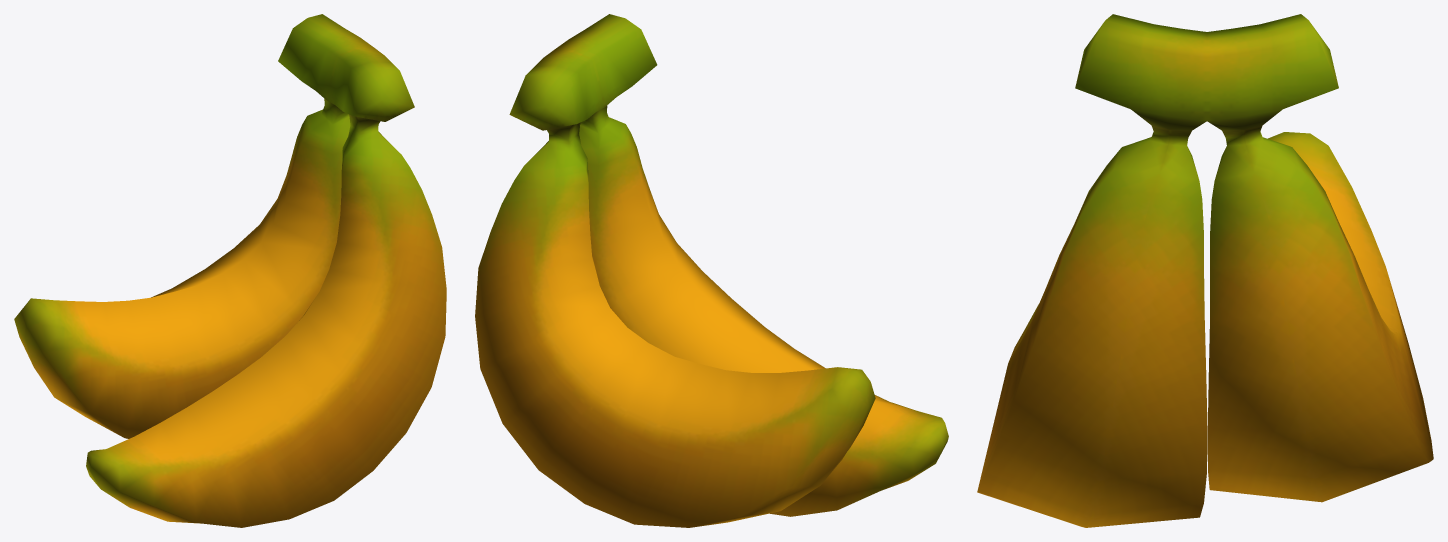
The model's file is Banana.obj.
3 renders of one model, left to right at view 1: azimuth 30°, elevation 25°; view 2: azimuth 150°, elevation 25°; view 3: azimuth 270°, elevation 25°, orthographic. The views are drawn at different scales.
Visible parts, largest first — view 1: bananas_low__MI_bananas; view 2: bananas_low__MI_bananas; view 3: bananas_low__MI_bananas.
Part boxes in pixels (left/top/right/bottom): bananas_low__MI_bananas: left=14, top=14, right=446, bottom=527; bananas_low__MI_bananas: left=475, top=14, right=948, bottom=527; bananas_low__MI_bananas: left=977, top=14, right=1433, bottom=527.
Size of the model in its own units: 0.574 by 0.6446 by 0.4624.
